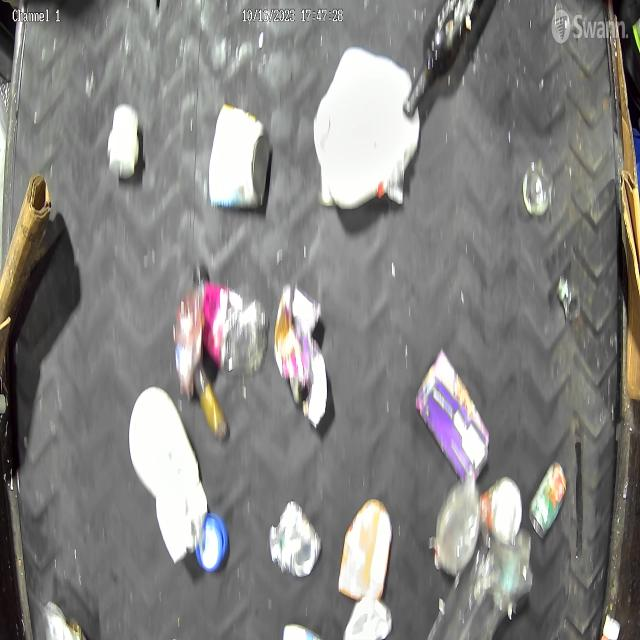can: (208, 101, 272, 208), (268, 500, 322, 577), (528, 460, 567, 541), (478, 474, 523, 544)
milk_jug: (313, 46, 421, 210), (128, 386, 208, 566)
non_white_jug: (339, 499, 393, 604)
plastic_bottle: (427, 527, 532, 640), (192, 261, 268, 375), (434, 469, 481, 574)
